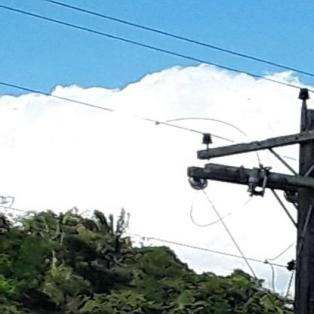Poste: (269, 105, 313, 314)
